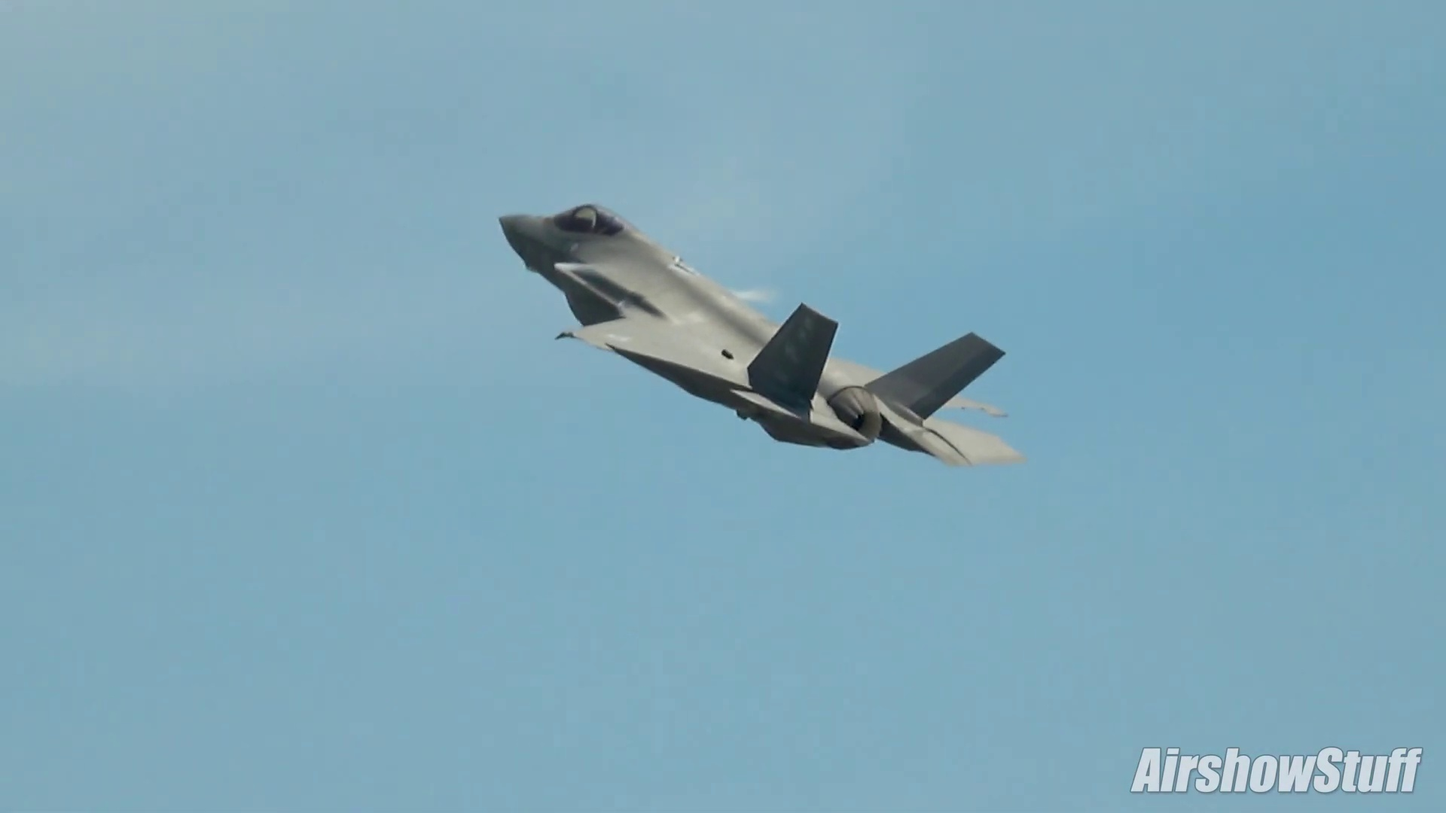F35: (478, 183, 1036, 493)
